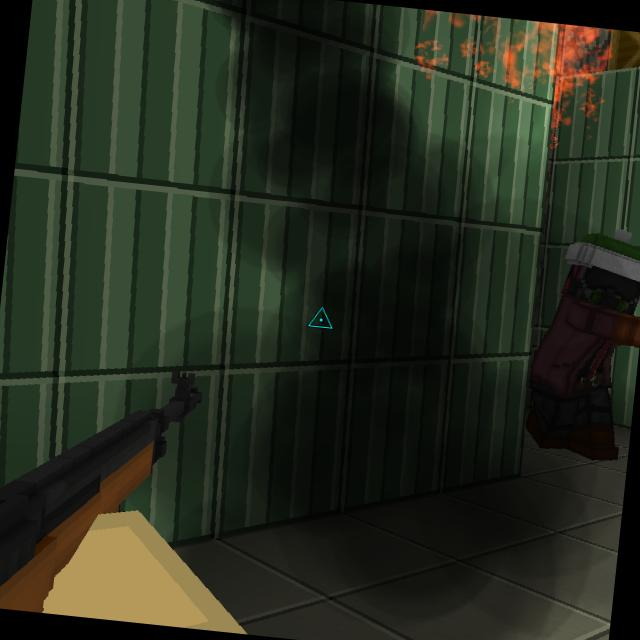enemy: (521, 214, 640, 472)
